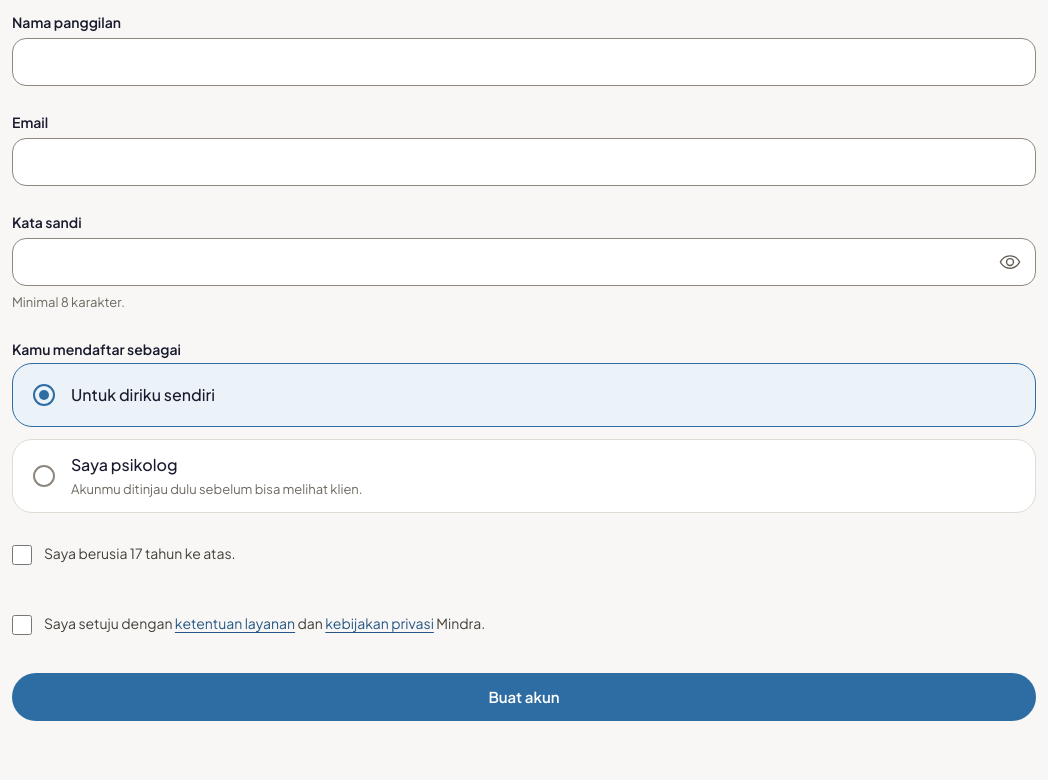
Test case: RegisterForm: nomor STR untuk calon psikolog › memilih "Saya psikolog" memunculkan kolom Nomor STR yang wajib; kembali ke diri sendiri menyembunyikannya
Click the radio button labelled "Saya psikolog".
click(124, 464)  # box [12,439,1036,513]
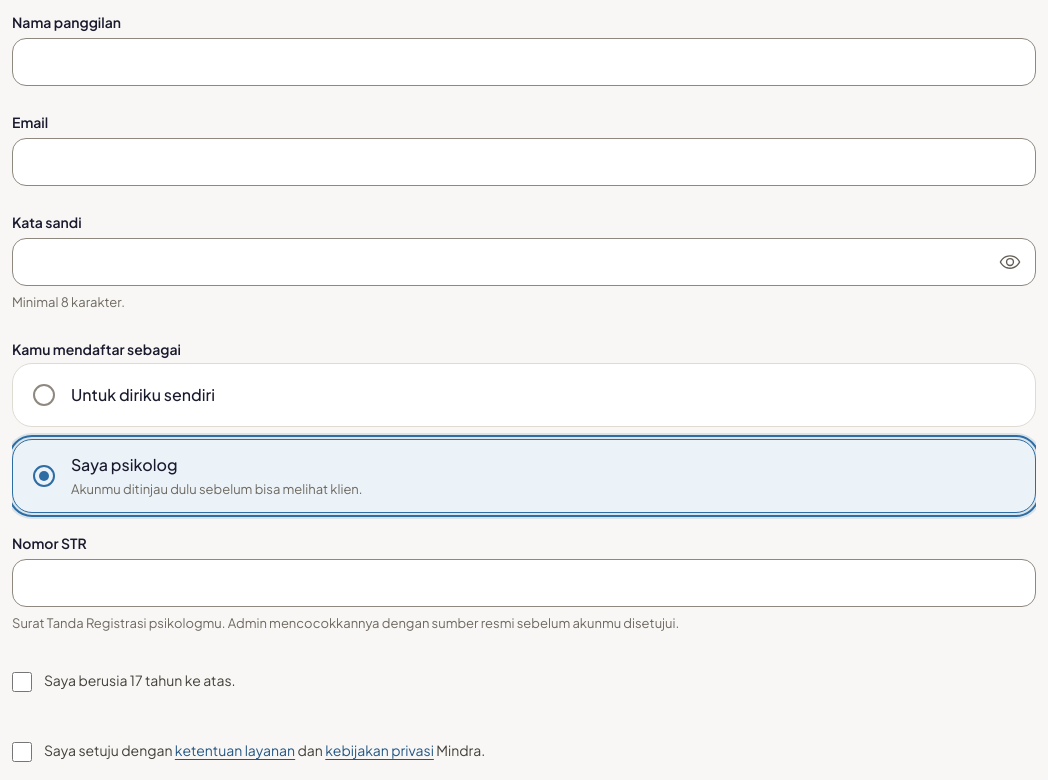
Check: the text "mencocokkannya dengan sumber resmi" is shown, box [12,615,679,631]
Click the radio button labelled "Untuk diriku sendiri".
click(143, 394)  # box [12,363,1036,427]
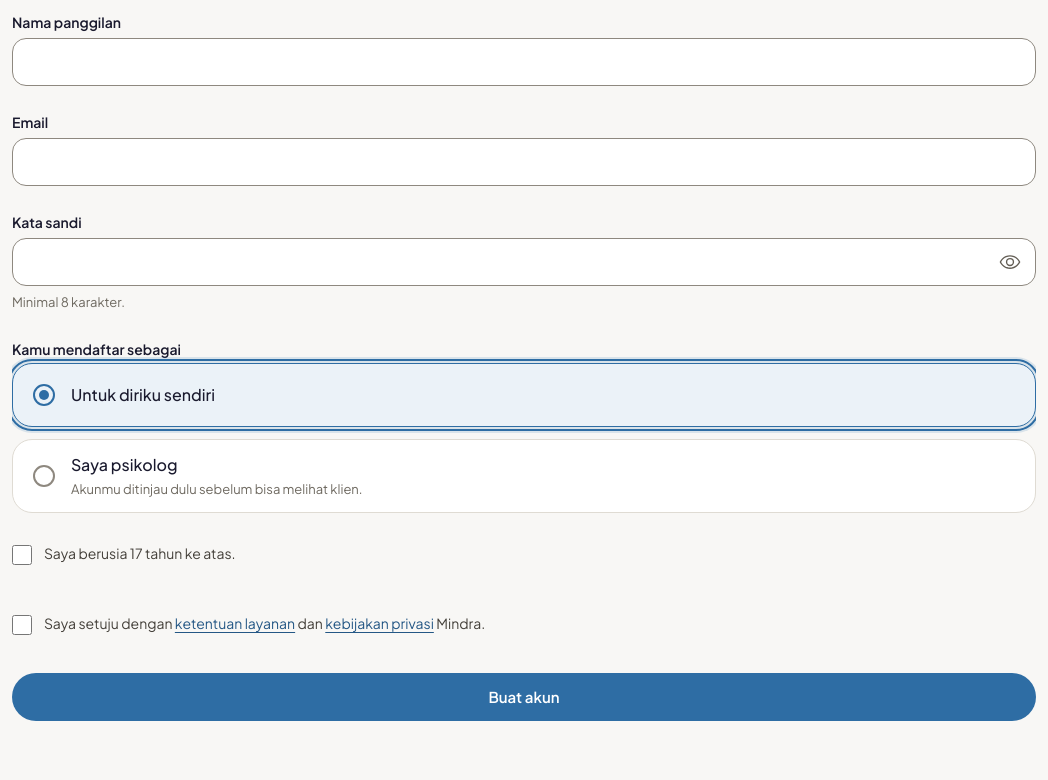
Check: the label labelled "Nomor STR" is gone
